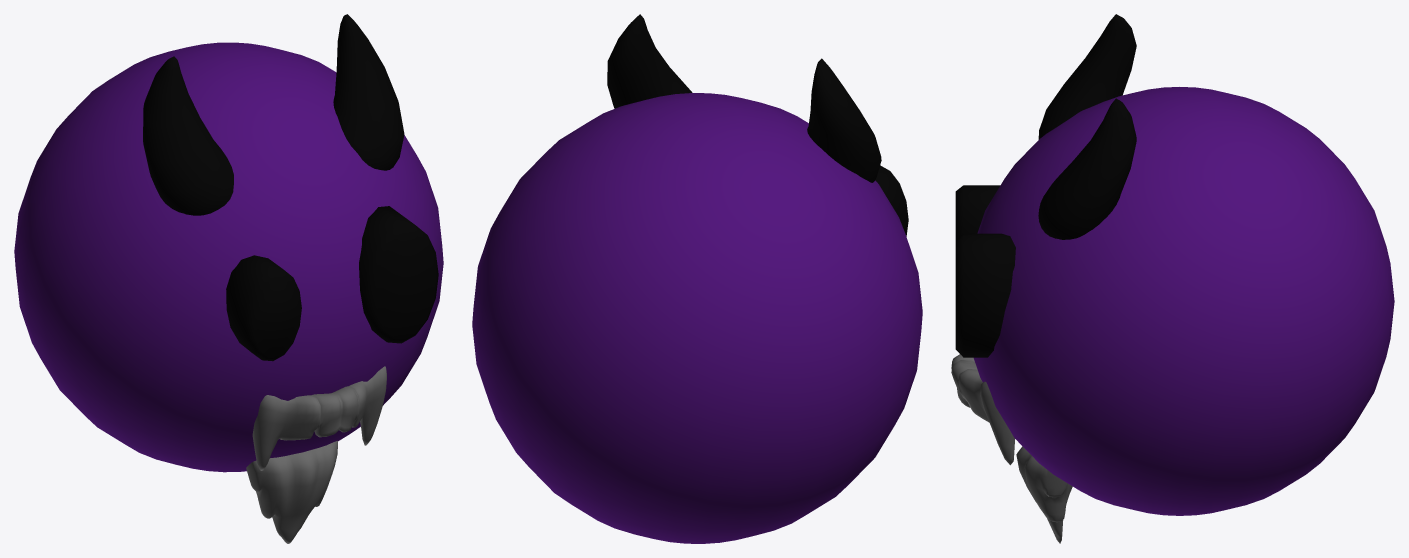
File: demon.gltf
3 renders of one model, left to right at view 1: azimuth 30°, elevation 25°; view 2: azimuth 150°, elevation 25°; view 3: azimuth 270°, elevation 25°, orthographic. The views are drawn at different scales.
Parts seen in each view (by area): view 1: body, horns, eyes, Cube; view 2: body, horns, eyes; view 3: body, horns, eyes, Cube.
Part boxes in pixels (left/top/right/bottom): body: left=14, top=42, right=443, bottom=472; horns: left=143, top=14, right=404, bottom=215; eyes: left=226, top=206, right=438, bottom=361; Cube: left=246, top=366, right=386, bottom=543; body: left=472, top=93, right=922, bottom=543; horns: left=607, top=14, right=881, bottom=182; eyes: left=875, top=165, right=908, bottom=236; body: left=973, top=87, right=1394, bottom=515; horns: left=1038, top=14, right=1136, bottom=239; eyes: left=955, top=185, right=1015, bottom=357; Cube: left=951, top=354, right=1072, bottom=543.
Bounding box in the file's own units: 1 × 1.25 × 1.03.
